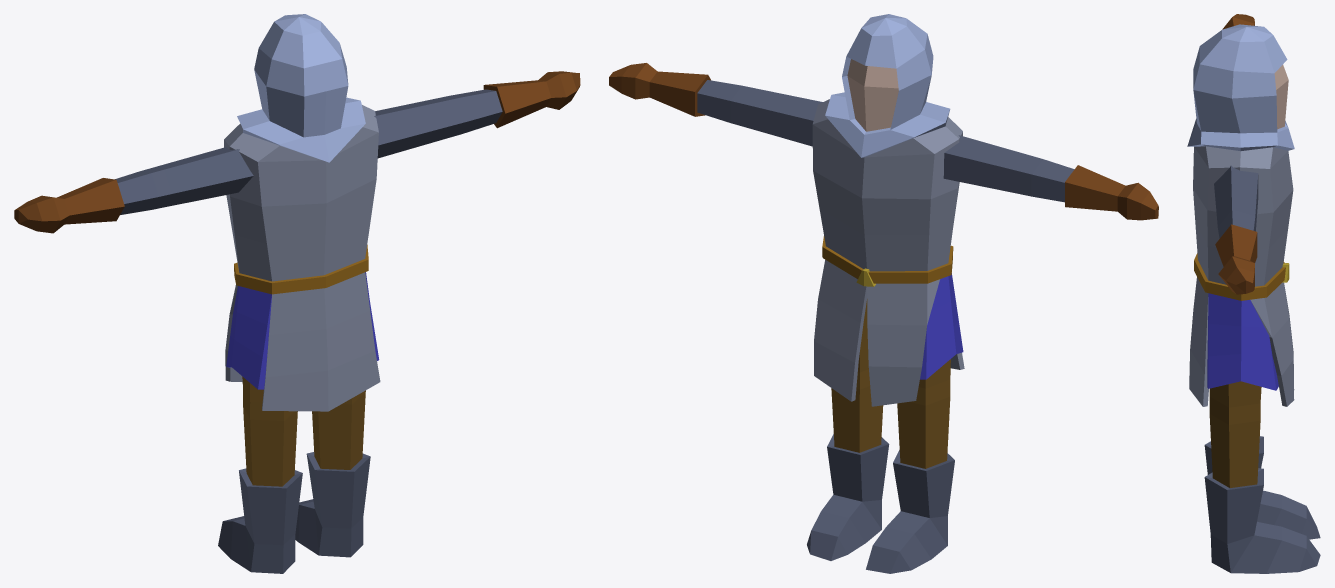
The model's file is test-knight.obj.
The picture shows the model from 3 angles, left to right: view 1: azimuth 30°, elevation 25°; view 2: azimuth 150°, elevation 25°; view 3: azimuth 270°, elevation 25°; orthographic projection. The views are drawn at different scales.
Visible parts, largest first — view 1: Body; view 2: Body; view 3: Body.
Part boxes in pixels (x1,y1,x2,y2): Body: (14, 14, 580, 573); Body: (609, 14, 1158, 573); Body: (1187, 14, 1320, 573).
Size of the model in its own units: 2.12 by 1.93 by 0.4496.
